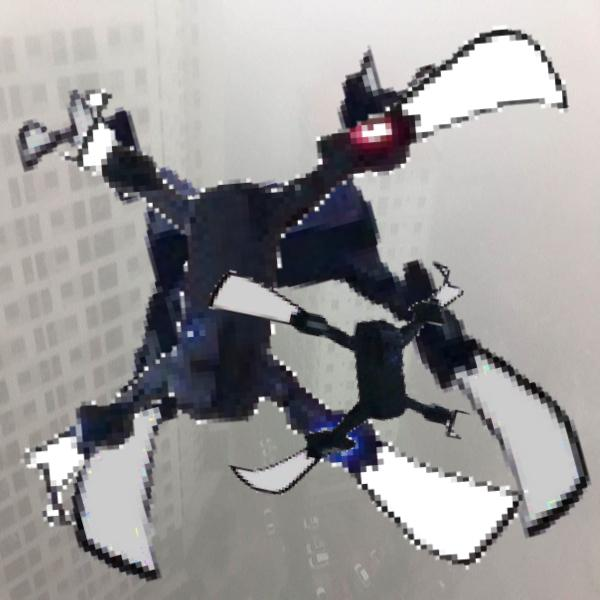drone: (1, 1, 598, 598), (6, 22, 584, 600), (190, 235, 481, 526)
